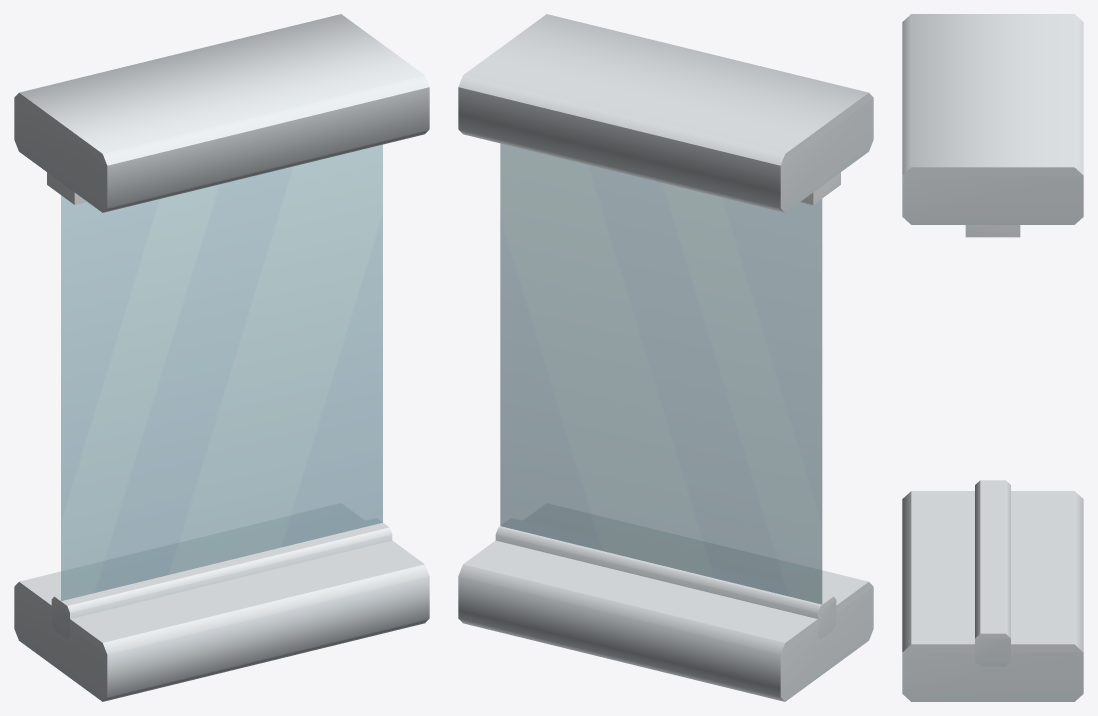
File: window-full-center-modular.glb
The picture shows the model from 3 angles, left to right: view 1: azimuth 30°, elevation 25°; view 2: azimuth 150°, elevation 25°; view 3: azimuth 270°, elevation 25°; orthographic projection. The views are drawn at different scales.
Parts seen in each view (by area): view 1: window_full_center_modular; view 2: window_full_center_modular; view 3: window_full_center_modular.
Boxes of the visible parts, <box> form: window_full_center_modular: <box>14,14,429,701</box>; window_full_center_modular: <box>458,14,873,701</box>; window_full_center_modular: <box>902,14,1083,701</box>.
Bounding box in the file's own units: 2 × 3.25 × 1.
Materials: 2 (2 with a texture image).
